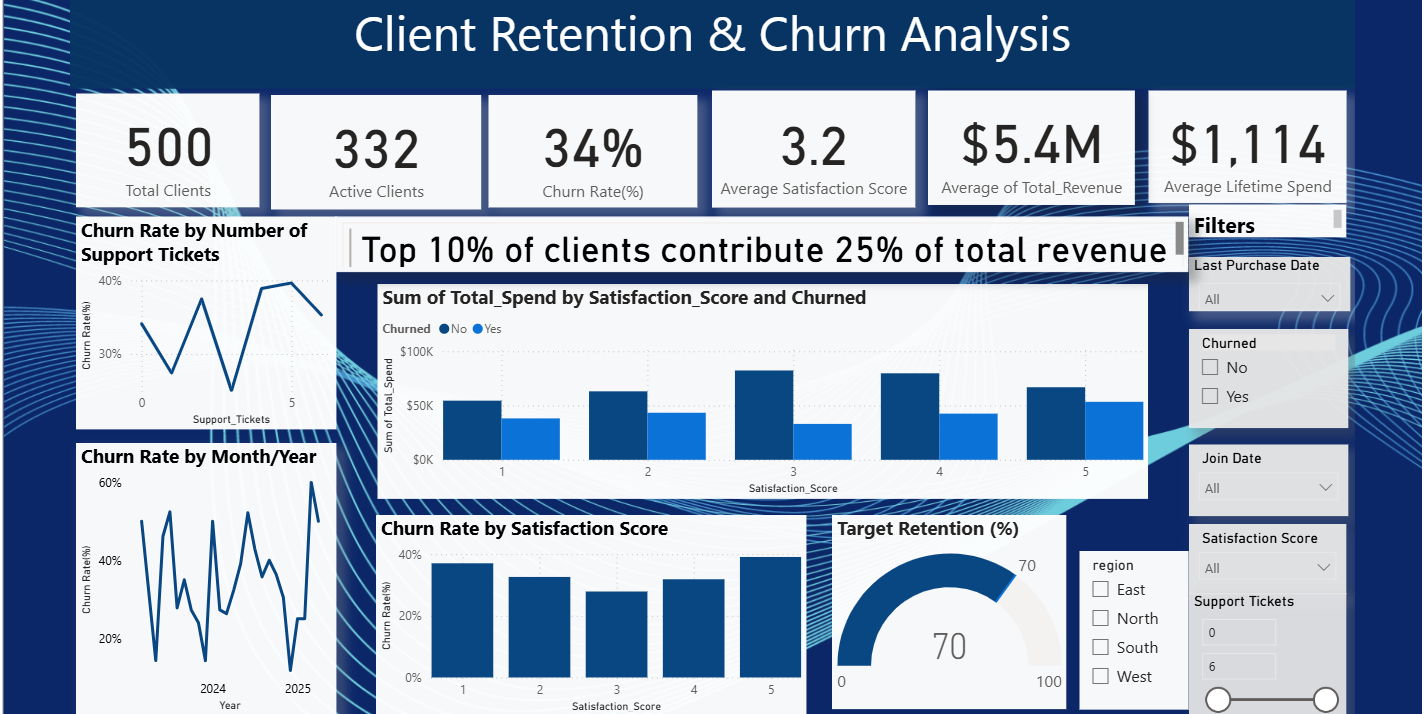

What the dashboard file says about the page in this screenshot:
{"tool":"powerbi","page":{"name":"Page 1","canvas":[1280,720],"ordinal":0},"visuals":[{"type":"textbox","box":[0,0,1280,95.6],"z":0},{"type":"card","fields":{"Values":["Count(client_retention_data.Client_ID)"]},"box":[6.5,100.4,183,113.3],"z":1000},{"type":"card","fields":{"Values":["client_retention_data.Active Clients"]},"box":[200.5,101.1,209.7,114],"z":2000},{"type":"card","fields":{"Values":["client_retention_data.Churn Rate (%)"]},"box":[417.5,101.1,207.8,112.2],"z":3000},{"type":"card","fields":{"Values":["Avg(client_retention_data.Satisfaction_Score)"]},"box":[639.6,97.2,202.4,116.6],"z":4000},{"type":"lineChart","title":"Churn Rate by Month/Year","fields":{"Y":["client_retention_data.Churn Rate(%)"],"Category":["client_retention_data.MonthYear.Variation.Date Hierarchy.Year","client_retention_data.MonthYear.Variation.Date Hierarchy.Month"]},"box":[6.5,448.5,259.1,272],"z":5000},{"type":"slicer","fields":{"Values":["client_retention_data.Churned"]},"box":[1114.8,334.8,158.7,98.7],"z":6000},{"type":"slicer","fields":{"Values":["client_retention_data.Join_Date.Variation.Date Hierarchy.Year","client_retention_data.Join_Date.Variation.Date Hierarchy.Quarter","client_retention_data.Join_Date.Variation.Date Hierarchy.Month"]},"box":[1114.8,449,158.7,71.6],"z":7000},{"type":"slicer","fields":{"Values":["client_retention_data.Satisfaction_Score"]},"box":[1114.8,528.4,156.8,69.7],"z":8000},{"type":"slicer","title":"Support Tickets","fields":{"Values":["client_retention_data.Support_Tickets"]},"box":[1114.8,598.1,156.8,121.9],"z":9000},{"type":"card","fields":{"Values":["Avg(client_retention_data.Total_Spend)"]},"box":[1074.2,96.8,197.4,112.3],"z":10000},{"type":"textbox","box":[1114.8,211,156.8,32.9],"z":11000},{"type":"slicer","title":"Last Purchase Date","fields":{"Values":["client_retention_data.Last_Purchase_Date.Variation.Date Hierarchy.Year","client_retention_data.Last_Purchase_Date.Variation.Date Hierarchy.Quarter","client_retention_data.Last_Purchase_Date.Variation.Date Hierarchy.Month"]},"box":[1114.8,263.2,160.6,54.2],"z":12000},{"type":"slicer","fields":{"Values":["client_retention_data.region"]},"box":[1006,555.4,108.5,158.2],"z":13000},{"type":"gauge","title":"Target Retention (%) ","fields":{"TargetValue":["client_retention_data.Target Retention (%)"],"Y":["client_retention_data.Target Retention (%)"]},"box":[759.5,520.5,233.6,193.1],"z":14000},{"type":"clusteredColumnChart","fields":{"Category":["Client_Summary.Satisfaction_Score"],"Y":["Sum(Client_Summary.Total_Spend)"],"Series":["Client_Summary.Churned"]},"box":[306,289.8,767.5,213.7],"z":15000},{"type":"card","fields":{"Values":["Avg(client_retention_data.Total_Revenue)"]},"box":[855.2,97.5,206,114],"z":16000},{"type":"multiRowCard","fields":{"Values":["client_retention_data.Top10_Revenue_Share_Display"]},"box":[264.8,222.5,849.7,55.2],"z":17000},{"type":"clusteredColumnChart","title":"Churn Rate by Satisfaction Score","fields":{"Category":["client_retention_data.Satisfaction_Score"],"Y":["client_retention_data.Churn Rate(%)"]},"box":[305.3,520.5,428.5,200.5],"z":18000},{"type":"lineChart","title":"Churn Rate by Number of Support Tickets","fields":{"Category":["client_retention_data.Support_Tickets"],"Y":["client_retention_data.Churn Rate(%)"]},"box":[6.5,221.8,259.1,212.1],"z":19000}]}

Visuals, with their boxes in screenshot pixels (x1, y1, x2, y2):
textbox: select_region(63, 0, 1358, 86)
card - Count(client_retention_data.Client_ID): select_region(70, 90, 255, 205)
card - client_retention_data.Active Clients: select_region(266, 91, 478, 207)
card - client_retention_data.Churn Rate (%): select_region(486, 91, 696, 205)
card - Avg(client_retention_data.Satisfaction_Score): select_region(710, 87, 915, 205)
"Churn Rate by Month/Year" lineChart: select_region(70, 443, 332, 713)
slicer - client_retention_data.Churned: select_region(1191, 328, 1352, 427)
slicer - client_retention_data.Join_Date.Variation.Date Hierarchy.Year x client_retention_data.Join_Date.Variation.Date Hierarchy.Quarter: select_region(1191, 443, 1352, 516)
slicer - client_retention_data.Satisfaction_Score: select_region(1191, 523, 1350, 594)
"Support Tickets" slicer: select_region(1191, 594, 1350, 713)
card - Avg(client_retention_data.Total_Spend): select_region(1150, 87, 1350, 200)
textbox: select_region(1191, 202, 1350, 236)
"Last Purchase Date" slicer: select_region(1191, 255, 1354, 310)
slicer - client_retention_data.region: select_region(1081, 551, 1191, 711)
"Target Retention (%) " gauge: select_region(832, 515, 1068, 711)
clusteredColumnChart - Client_Summary.Satisfaction_Score x Sum(Client_Summary.Total_Spend): select_region(373, 282, 1149, 498)
card - Avg(client_retention_data.Total_Revenue): select_region(928, 88, 1137, 203)
multiRowCard - client_retention_data.Top10_Revenue_Share_Display: select_region(331, 214, 1191, 270)
"Churn Rate by Satisfaction Score" clusteredColumnChart: select_region(372, 515, 806, 713)
"Churn Rate by Number of Support Tickets" lineChart: select_region(70, 213, 332, 428)
